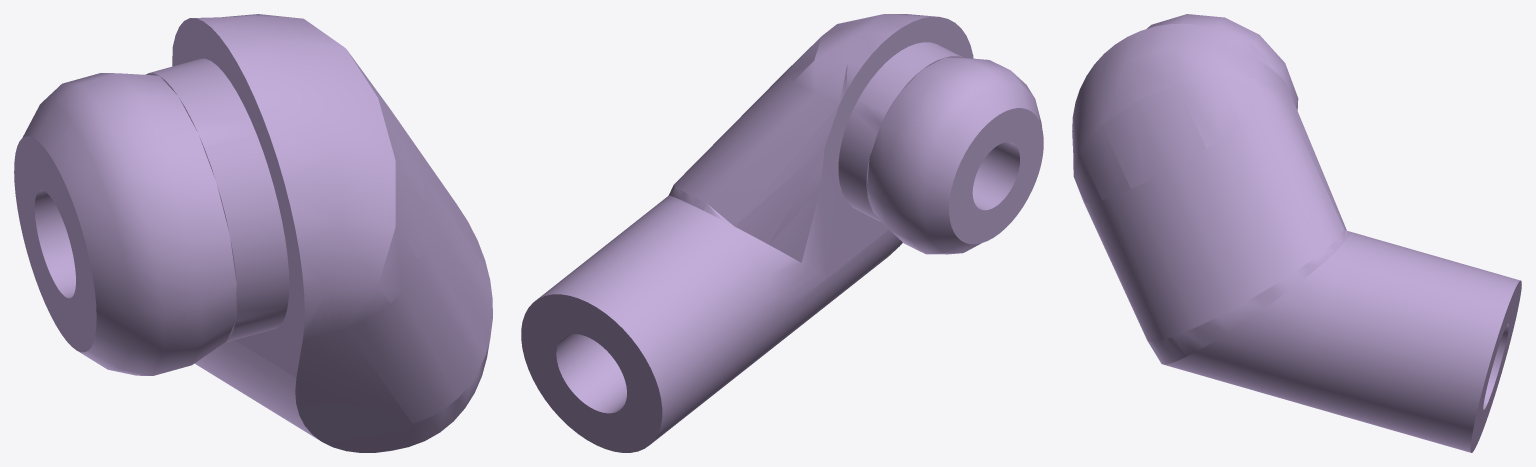
File: arm_right_lavender.obj
3 views of the same model, side by side, from view 1: azimuth 30°, elevation 25°; view 2: azimuth 150°, elevation 25°; view 3: azimuth 270°, elevation 25° (orthographic). The views are drawn at different scales.
Visible parts, largest first — view 1: arm_right_lavender; view 2: arm_right_lavender; view 3: arm_right_lavender.
Boxes of the visible parts, left/top/right/bottom form: arm_right_lavender: left=14, top=14, right=492, bottom=452; arm_right_lavender: left=521, top=14, right=1043, bottom=452; arm_right_lavender: left=1072, top=14, right=1521, bottom=452.
Size of the model in its own units: 21.81 by 21.27 by 25.04.
